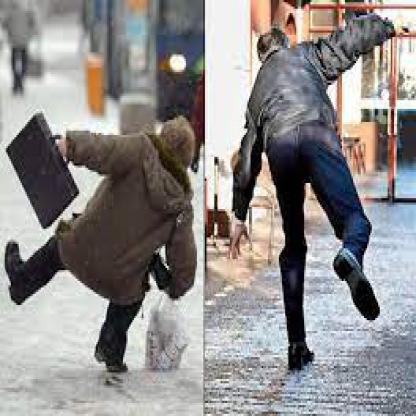Fall_Down: (3, 114, 200, 376)
